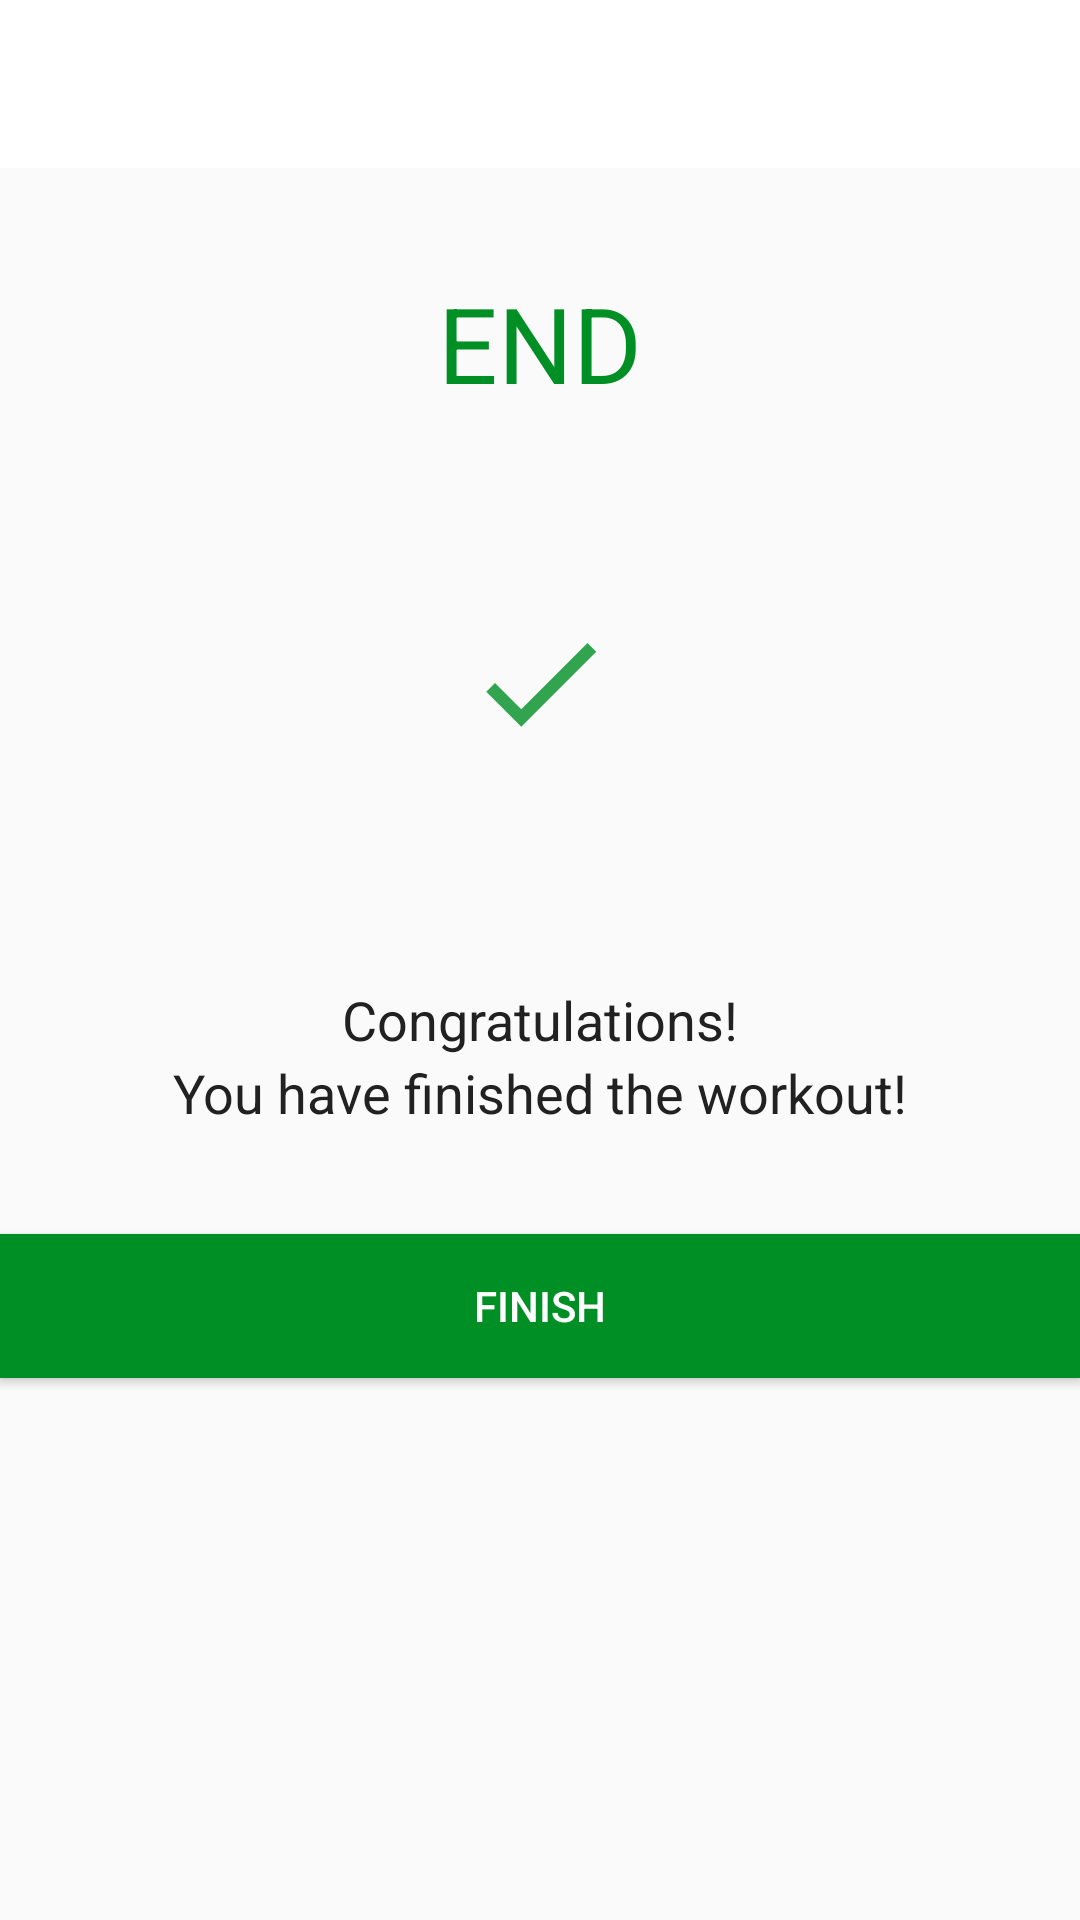

Screen size 1080px x 1920px. Icon name, then its box in pixels as (x1, y1, x2, y2):
done: (486, 643, 596, 727)
